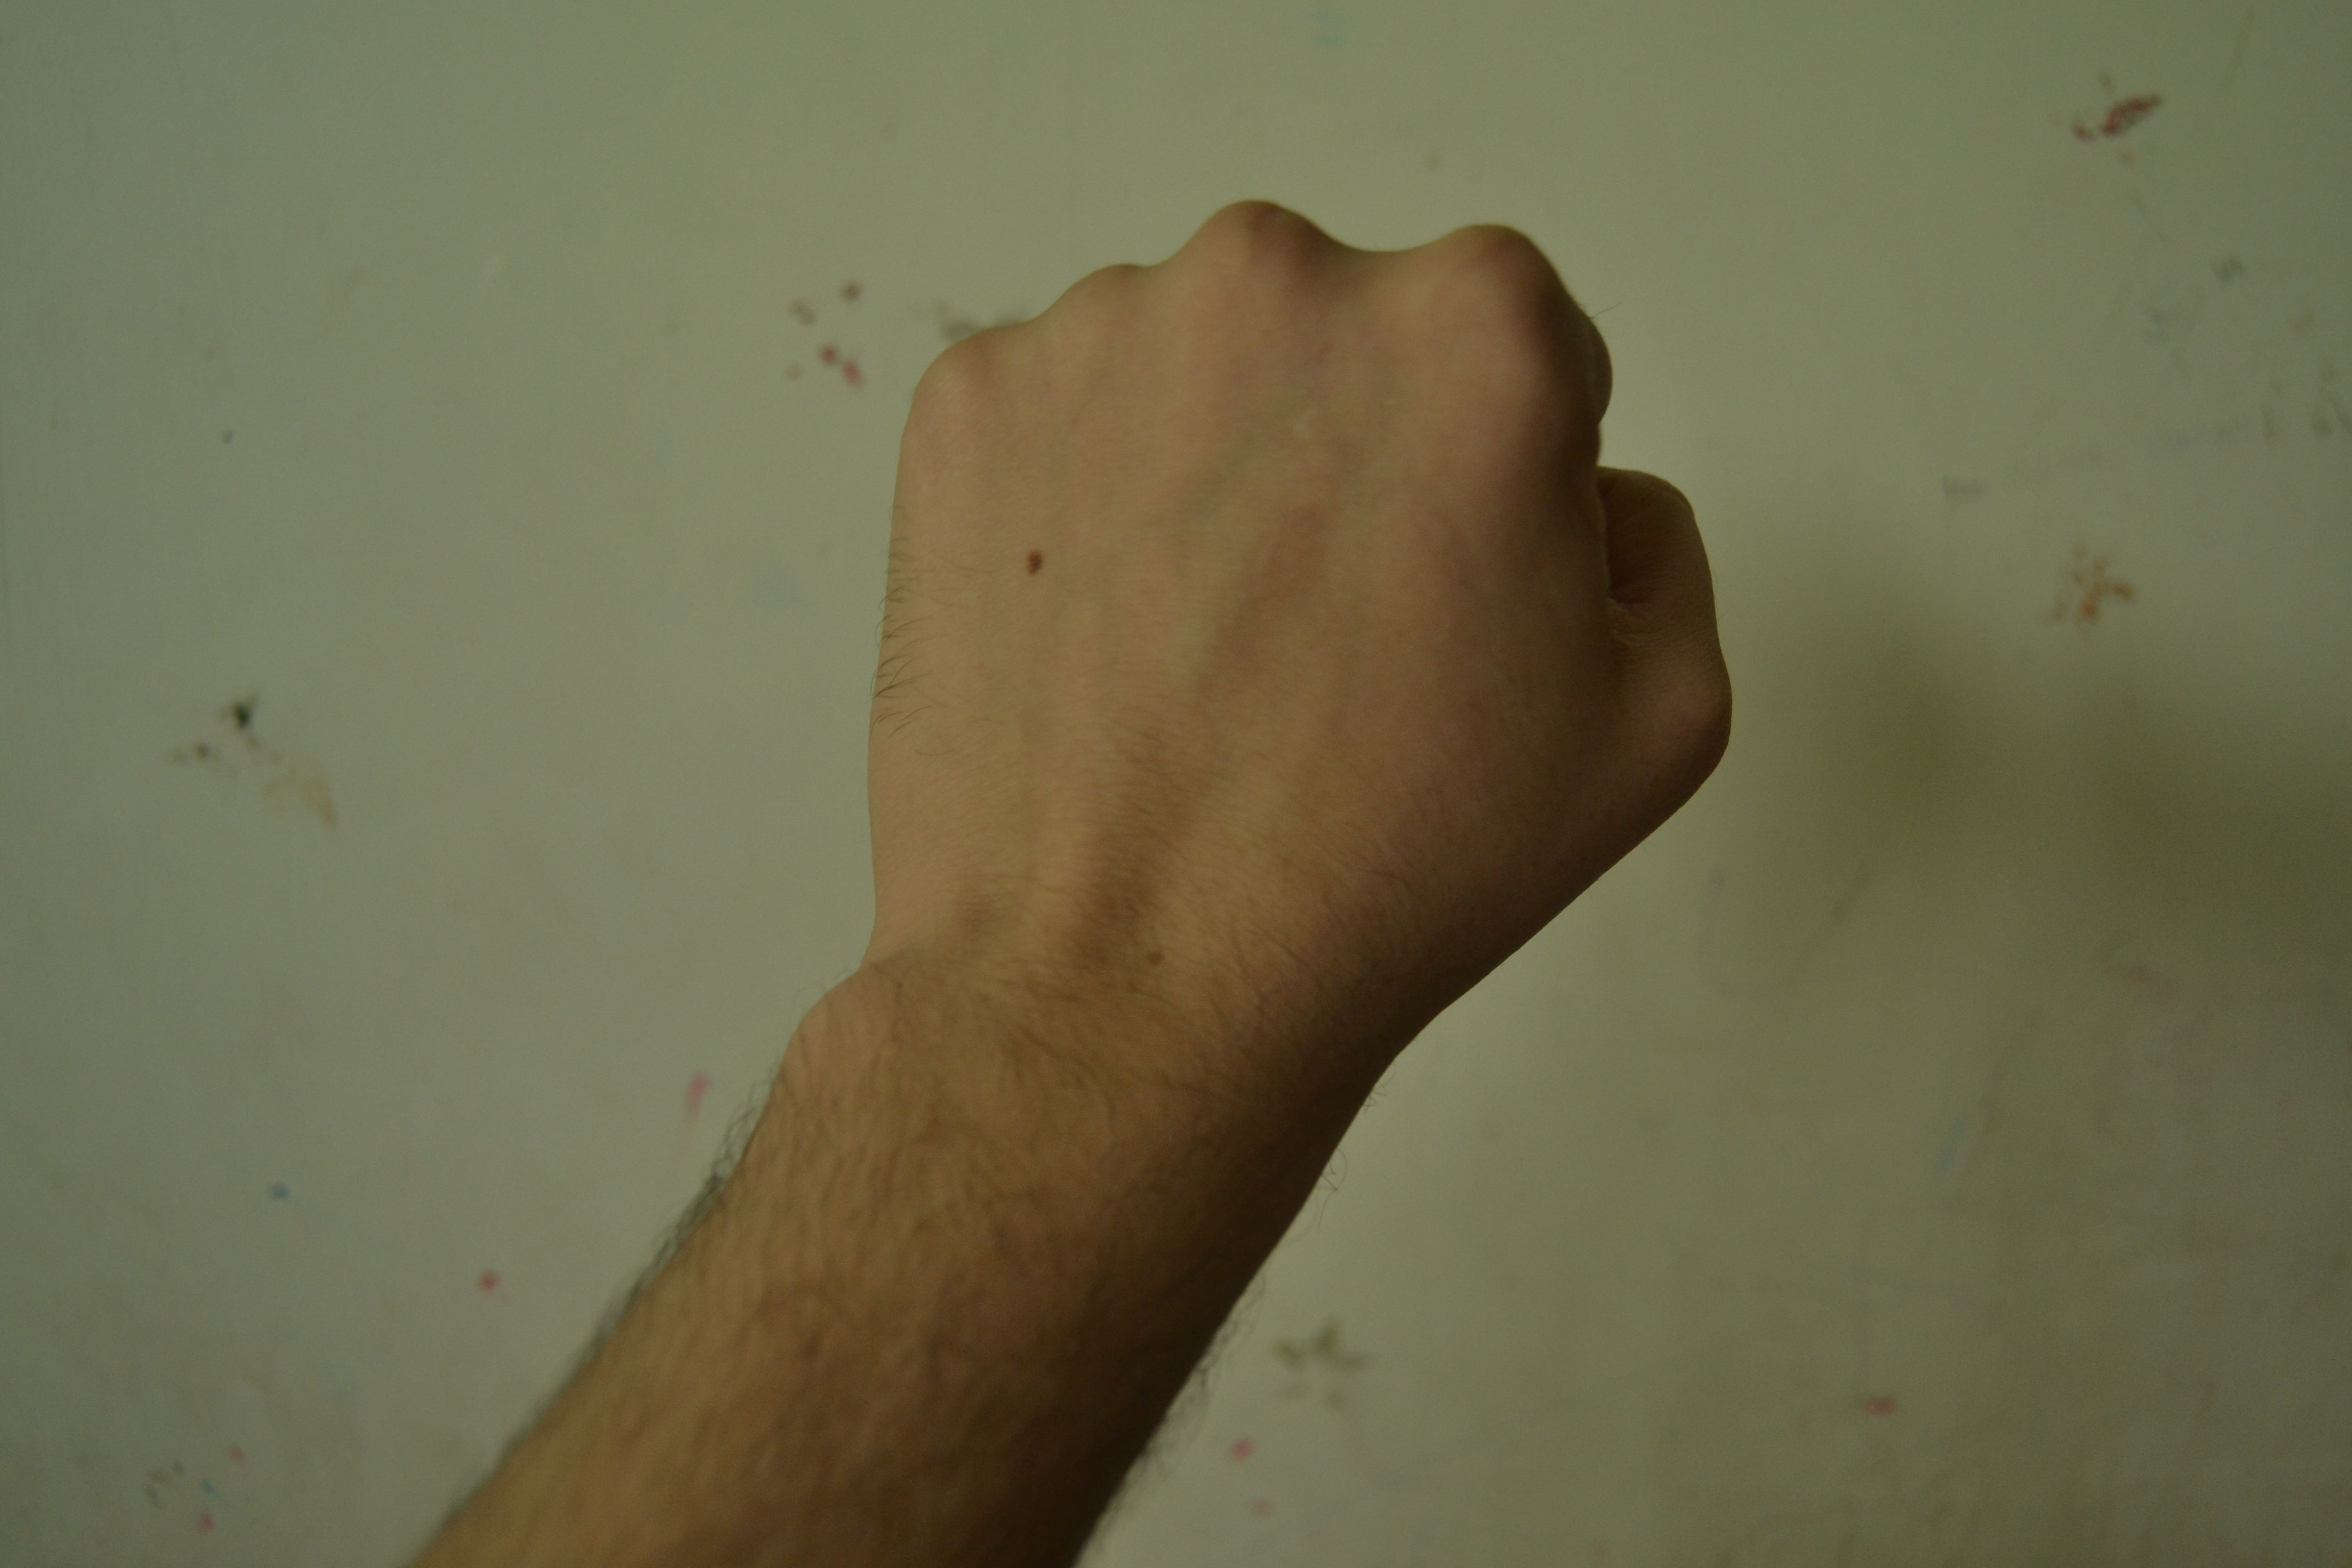click: (747, 159, 1778, 1409)
